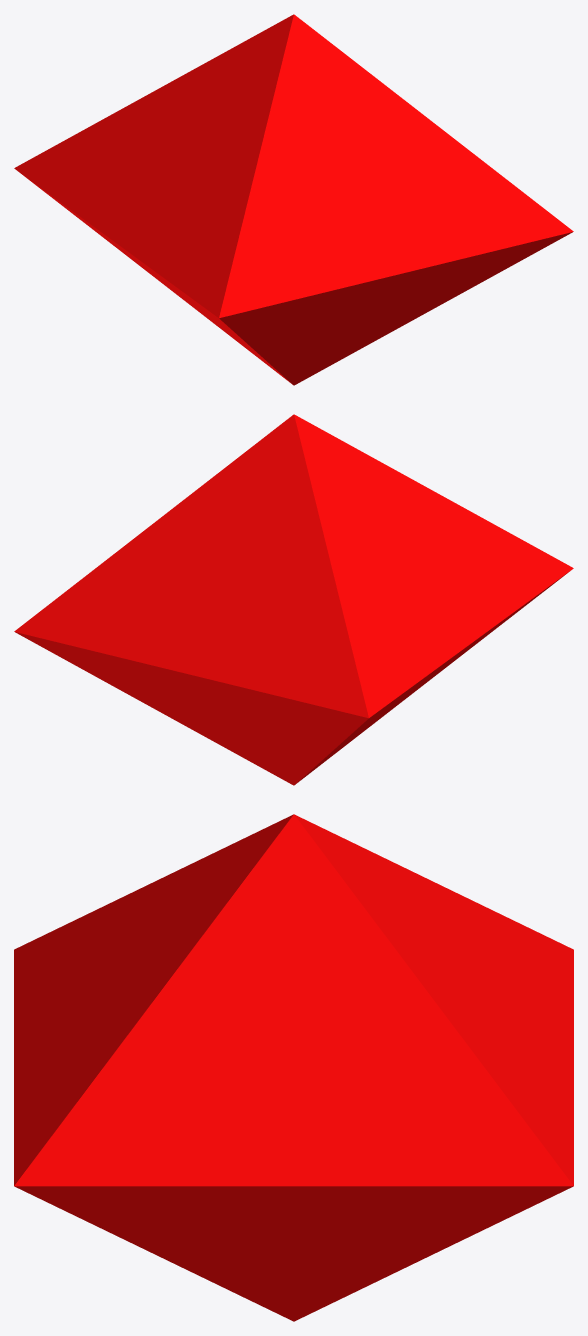
Rendered from diamond.fbx.
The picture shows the model from 3 angles, top to bottom: view 1: azimuth 30°, elevation 25°; view 2: azimuth 150°, elevation 25°; view 3: azimuth 270°, elevation 25°; orthographic projection. The views are drawn at different scales.
Parts seen in each view (by area): view 1: Plane; view 2: Plane; view 3: Plane.
Boxes of the visible parts, x1,y1,x2,y2 form: Plane: [14, 14, 573, 385]; Plane: [14, 414, 573, 785]; Plane: [14, 814, 573, 1321].
Bounding box in the file's own units: 200 × 200 × 200.
